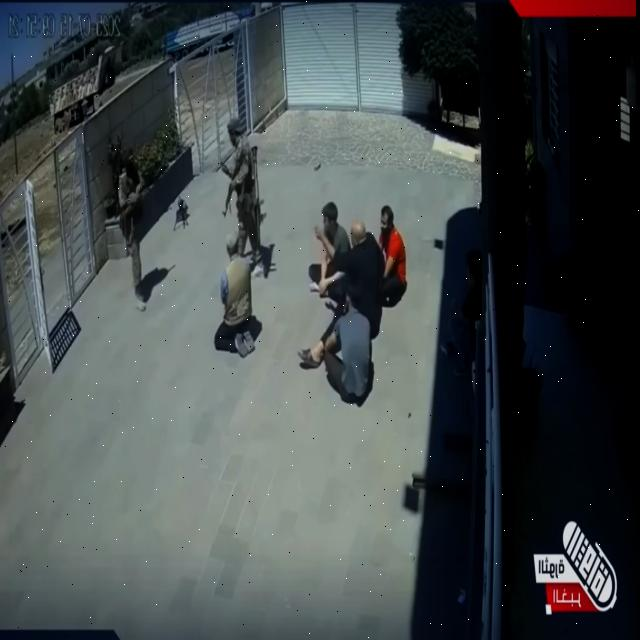sitting: (118, 154, 146, 311)
